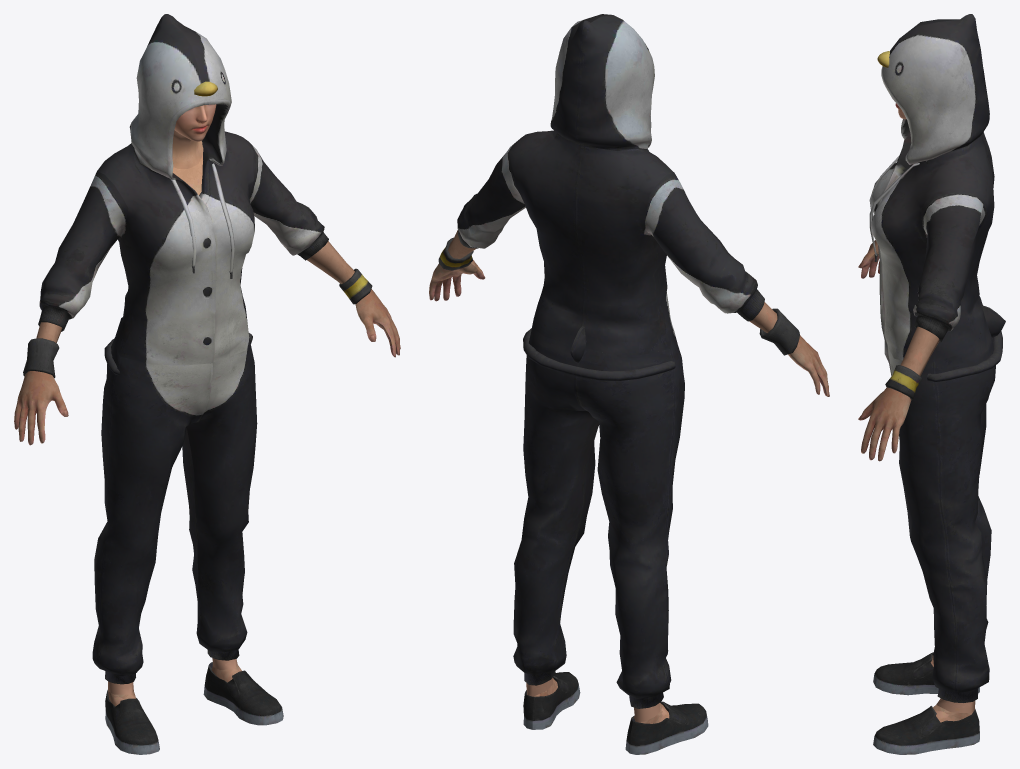
The model's file is emperor-penguin.glb.
The picture shows the model from 3 angles, left to right: view 1: azimuth 30°, elevation 25°; view 2: azimuth 150°, elevation 25°; view 3: azimuth 270°, elevation 25°; orthographic projection. The views are drawn at different scales.
Parts seen in each view (by area): view 1: Mesh_0484.rip, Mesh_0486.rip, Mesh_0405.rip, Mesh_0485.rip, Mesh_0403.rip; view 2: Mesh_0484.rip, Mesh_0486.rip, Mesh_0485.rip, Mesh_0405.rip; view 3: Mesh_0484.rip, Mesh_0486.rip, Mesh_0485.rip, Mesh_0405.rip, Mesh_0806.rip, Mesh_0891.rip.
Boxes of the visible parts, left/top/right/bottom form: Mesh_0484.rip: left=23, top=14, right=372, bottom=378; Mesh_0486.rip: left=92, top=333, right=257, bottom=684; Mesh_0405.rip: left=14, top=155, right=400, bottom=445; Mesh_0485.rip: left=105, top=662, right=283, bottom=754; Mesh_0403.rip: left=172, top=104, right=216, bottom=168; Mesh_0484.rip: left=438, top=14, right=799, bottom=362; Mesh_0486.rip: left=513, top=323, right=684, bottom=708; Mesh_0485.rip: left=523, top=672, right=708, bottom=754; Mesh_0405.rip: left=429, top=230, right=829, bottom=396; Mesh_0484.rip: left=869, top=14, right=1005, bottom=399; Mesh_0486.rip: left=884, top=327, right=1002, bottom=702; Mesh_0485.rip: left=873, top=652, right=979, bottom=754; Mesh_0405.rip: left=858, top=164, right=939, bottom=461; Mesh_0806.rip: left=936, top=698, right=975, bottom=712; Mesh_0891.rip: left=930, top=655, right=973, bottom=722.
Bounding box in the file's own units: 1.07 × 1.86 × 0.3538.
7 materials, 7 textured.
